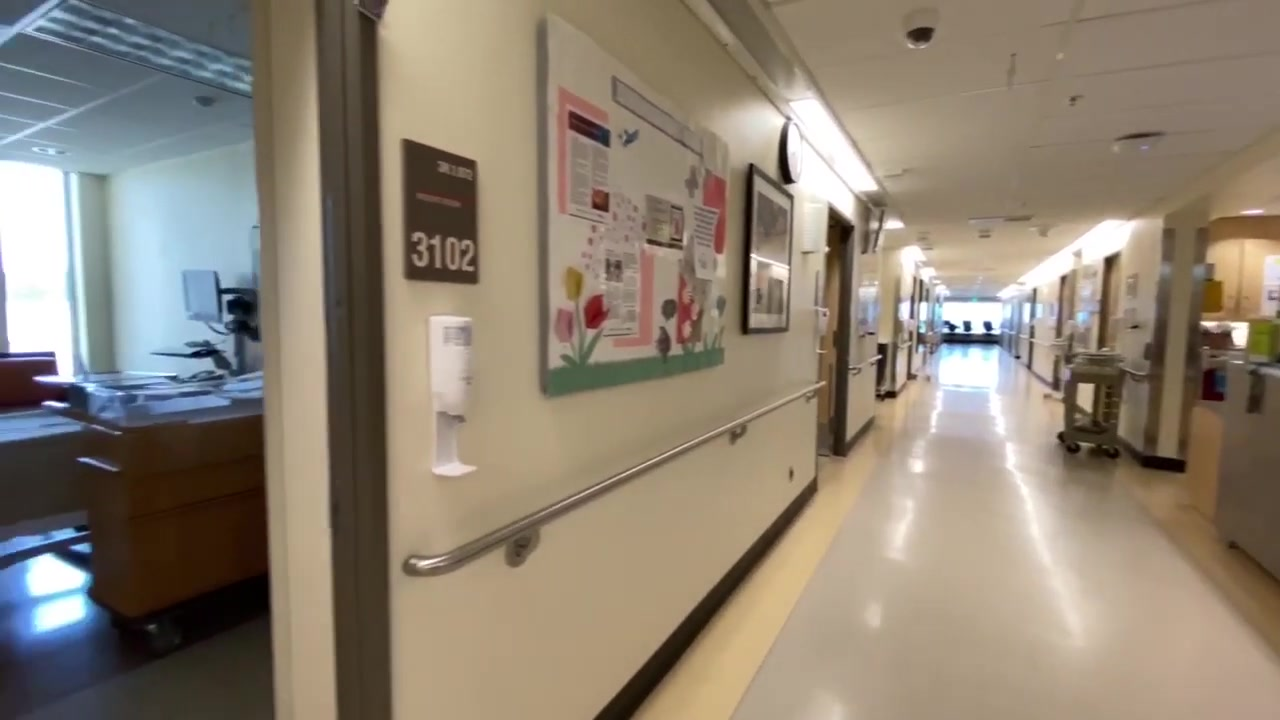computer: (182, 269, 219, 322)
dispenser: (429, 315, 477, 478), (814, 306, 829, 355)
hallway_assist_bar: (401, 374, 828, 577), (848, 354, 884, 375), (1119, 365, 1148, 377)
sofa: (1, 351, 58, 427)
utility_cart: (1057, 349, 1124, 460)
